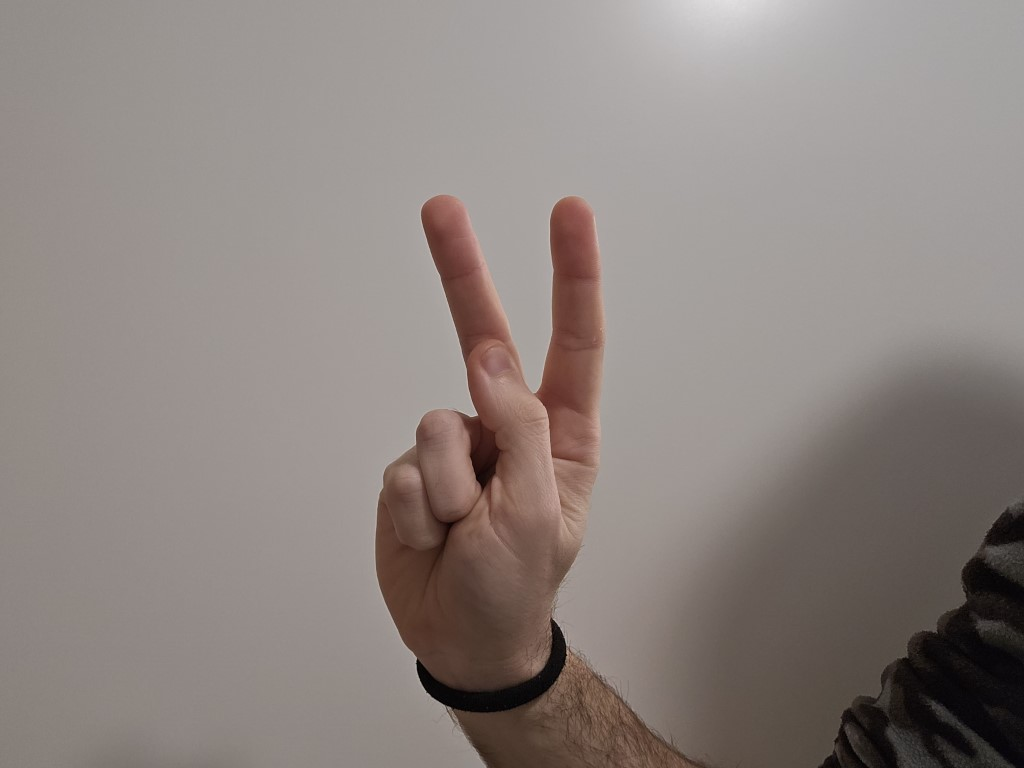k: (313, 190, 638, 642)
